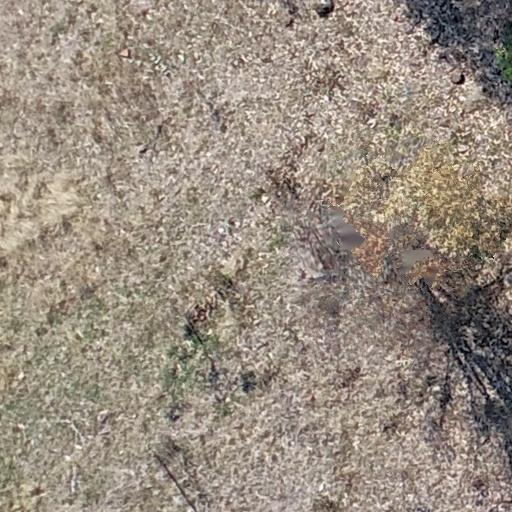stone: (451, 71, 466, 84), (120, 48, 130, 58)
